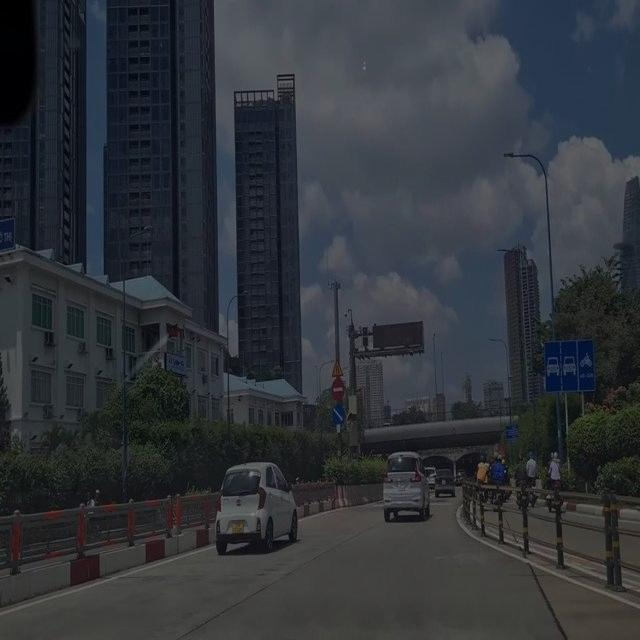Cấm đi ngược chiều: (329, 376, 346, 404)
Hướng phải đi vòng sang phải: (331, 407, 346, 424)
Làn đường cho từng xe: (540, 334, 599, 397)
Đường hẹp: (331, 357, 344, 376)
